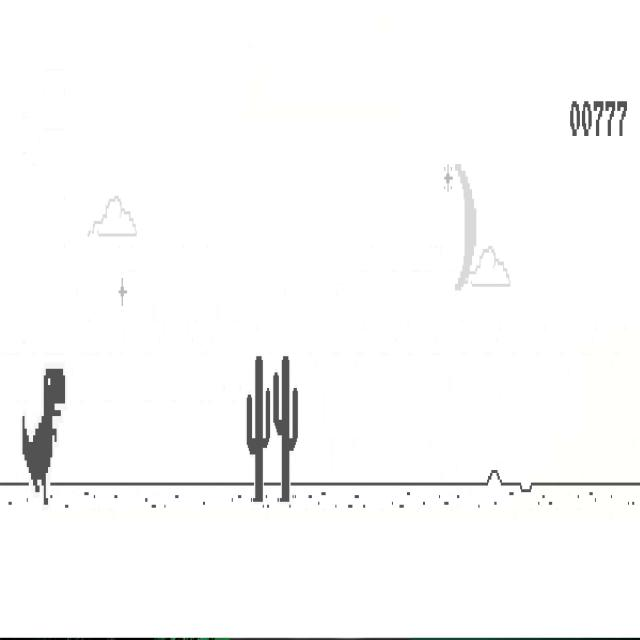cacto: (273, 354, 298, 503), (247, 354, 270, 503)
dino: (21, 366, 66, 506)
